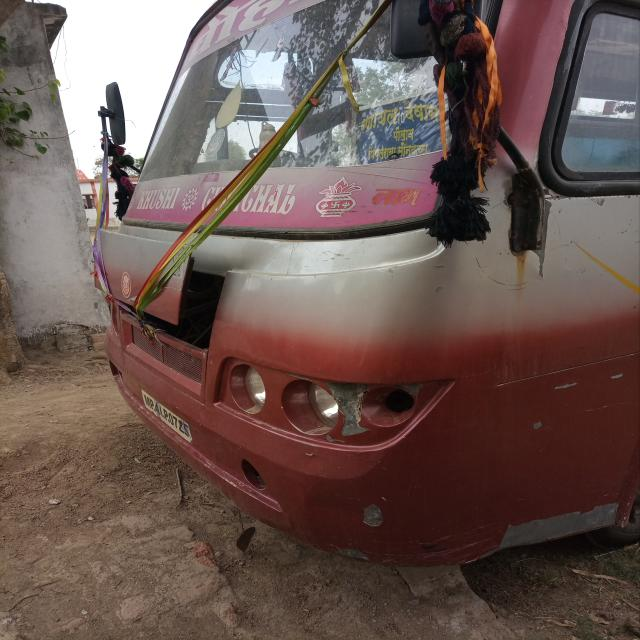Bus: (67, 0, 640, 580)
